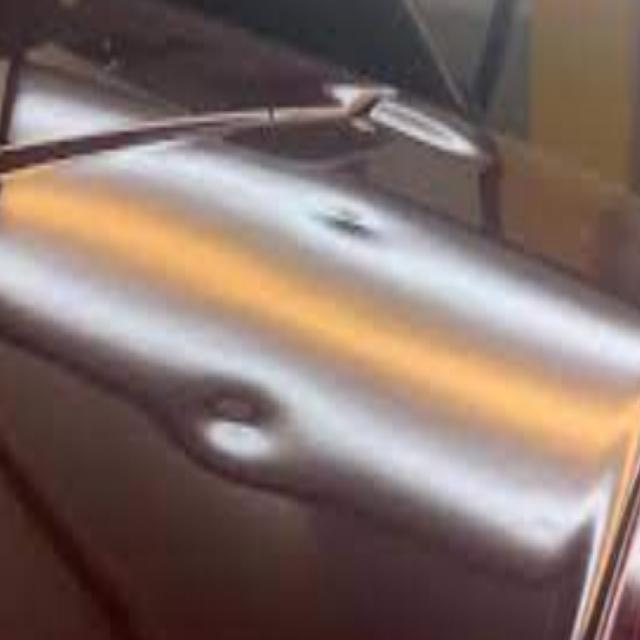dents: (183, 362, 312, 482), (308, 198, 388, 252)
